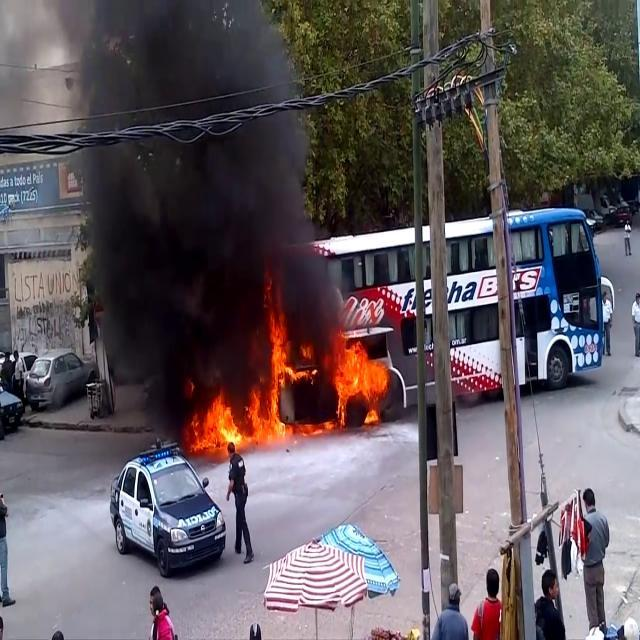Fire: (242, 321, 323, 444), (332, 322, 389, 426), (190, 391, 256, 458)
Smoke: (71, 0, 337, 382)
